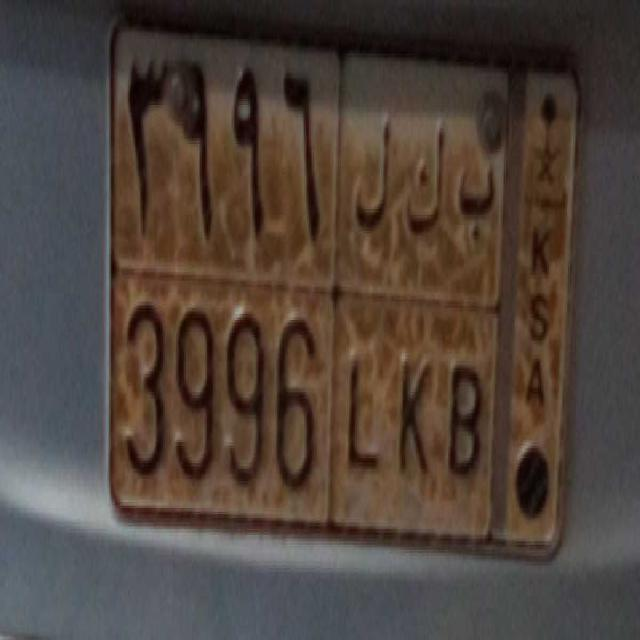license_plate: (117, 258, 487, 534)
